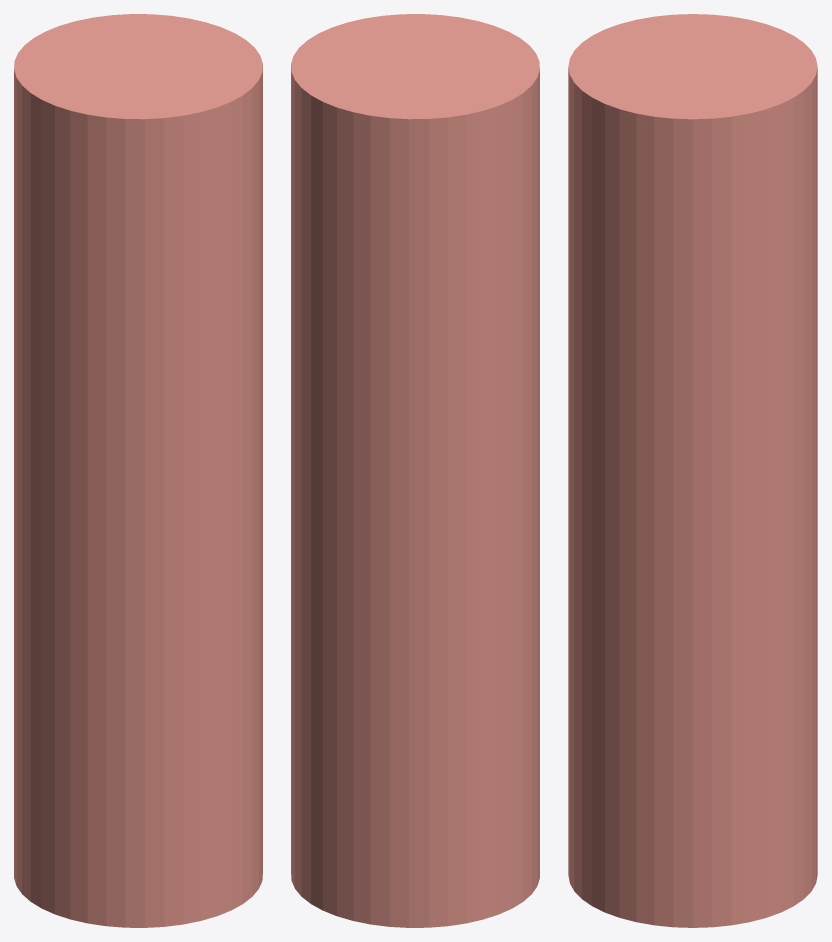
The model's file is gen_battery_03.glb.
3 renders of one model, left to right at view 1: azimuth 30°, elevation 25°; view 2: azimuth 150°, elevation 25°; view 3: azimuth 270°, elevation 25°, orthographic.
Parts seen in each view (by area): view 1: z-up-to-y-up; view 2: z-up-to-y-up; view 3: z-up-to-y-up.
Part boxes in pixels (box(x1,y1,x2,y2)): z-up-to-y-up: box(14, 14, 262, 927); z-up-to-y-up: box(291, 14, 539, 927); z-up-to-y-up: box(568, 14, 817, 927).
Size of the model in its own units: 0.0138 by 0.0493 by 0.0138.
